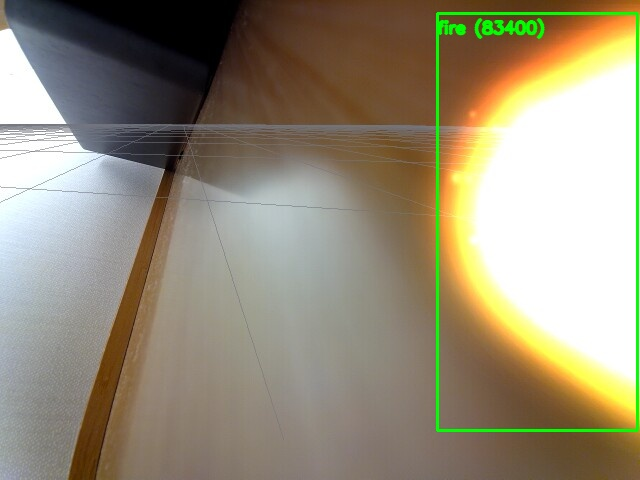fire: (437, 13, 637, 430)
